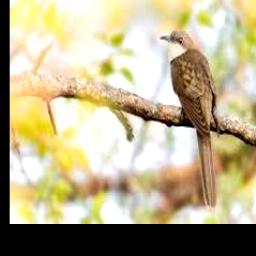Cuckoo: (159, 30, 219, 211)
